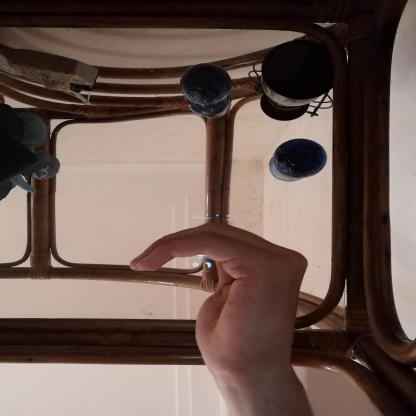HAA: (109, 204, 332, 402)
